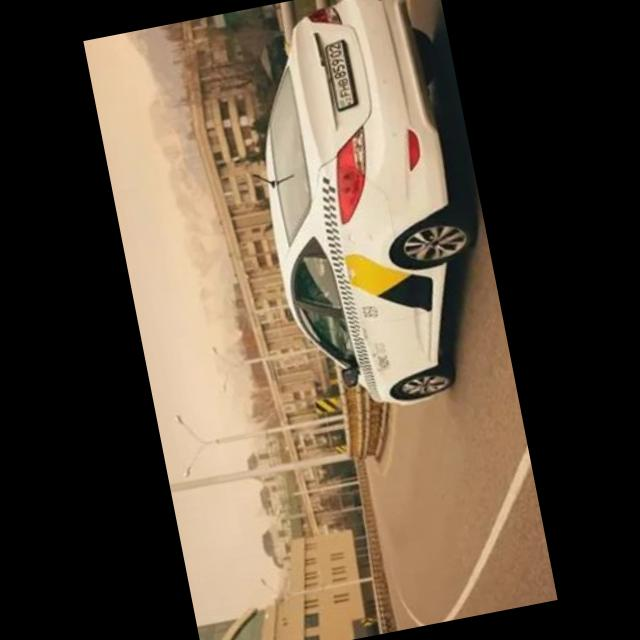taxi: (221, 1, 507, 428)
